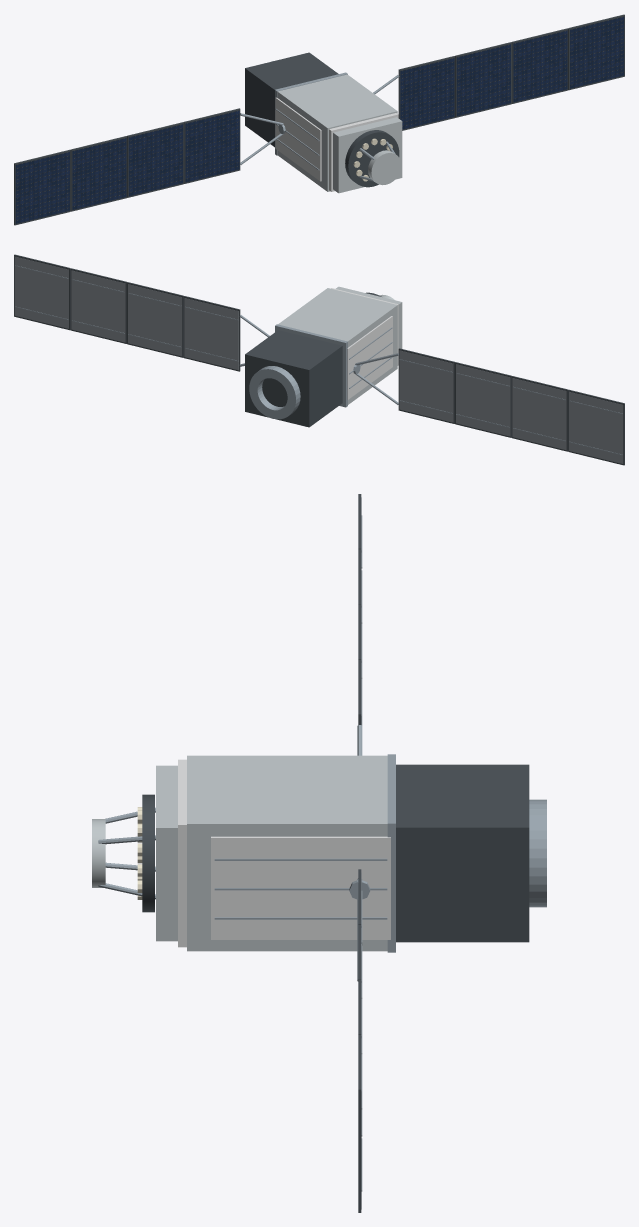
File: qzss-ds-2000.glb
3 views of the same model, one above another, from view 1: azimuth 30°, elevation 25°; view 2: azimuth 150°, elevation 25°; view 3: azimuth 270°, elevation 25° (orthographic). The views are drawn at different scales.
Visible parts, largest first — view 1: Solar cell panel (×8), Payload module, Solar panel frame (×8), Service module, Radiator face, Antenna equipment shelf, Planar antenna aperture, Antenna tower platform, Earth-facing deck; view 2: Rear array substrate (×8), Service module, Payload module, Solar panel frame (×8), Radiator face, Launch adapter ring, Module interface, Antenna equipment shelf; view 3: Service module, Payload module, Radiator face, Antenna equipment shelf, Launch adapter ring, Earth-facing deck, Planar antenna aperture, Module interface.
Boxes of the visible parts, box(x1,y1,x2,y2) form: Solar cell panel (×8): box(15, 16, 624, 223); Payload module: box(277, 74, 397, 191); Solar panel frame (×8): box(14, 14, 624, 225); Service module: box(245, 52, 338, 147); Radiator face: box(275, 97, 321, 181); Antenna equipment shelf: box(333, 117, 402, 193); Planar antenna aperture: box(345, 130, 399, 187); Antenna tower platform: box(368, 150, 401, 185); Earth-facing deck: box(329, 113, 398, 191); Rear array substrate (×8): box(14, 256, 623, 463); Service module: box(245, 330, 342, 427); Payload module: box(278, 288, 397, 404); Solar panel frame (×8): box(14, 254, 624, 465); Radiator face: box(347, 316, 392, 399); Launch adapter ring: box(249, 366, 300, 419); Module interface: box(275, 324, 347, 407); Antenna equipment shelf: box(335, 286, 402, 348); Service module: box(396, 764, 529, 942); Payload module: box(187, 755, 387, 951); Radiator face: box(211, 836, 390, 939); Antenna equipment shelf: box(156, 765, 177, 941); Launch adapter ring: box(529, 799, 546, 907); Earth-facing deck: box(178, 759, 186, 947); Planar antenna aperture: box(142, 794, 154, 912); Module interface: box(387, 754, 395, 952).
Size of the model in its own units: 25.28 by 2.55 by 8.17.
7 materials, 1 textured.
